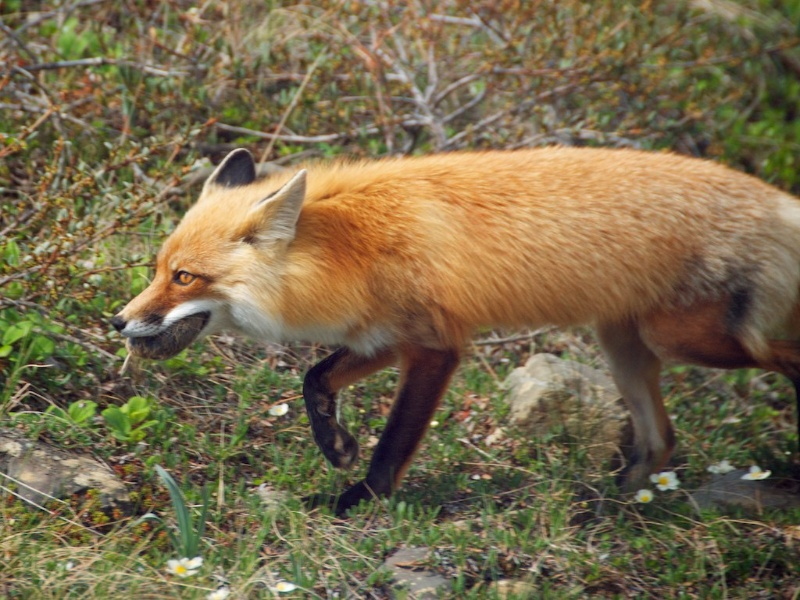fox: (113, 138, 800, 513)
